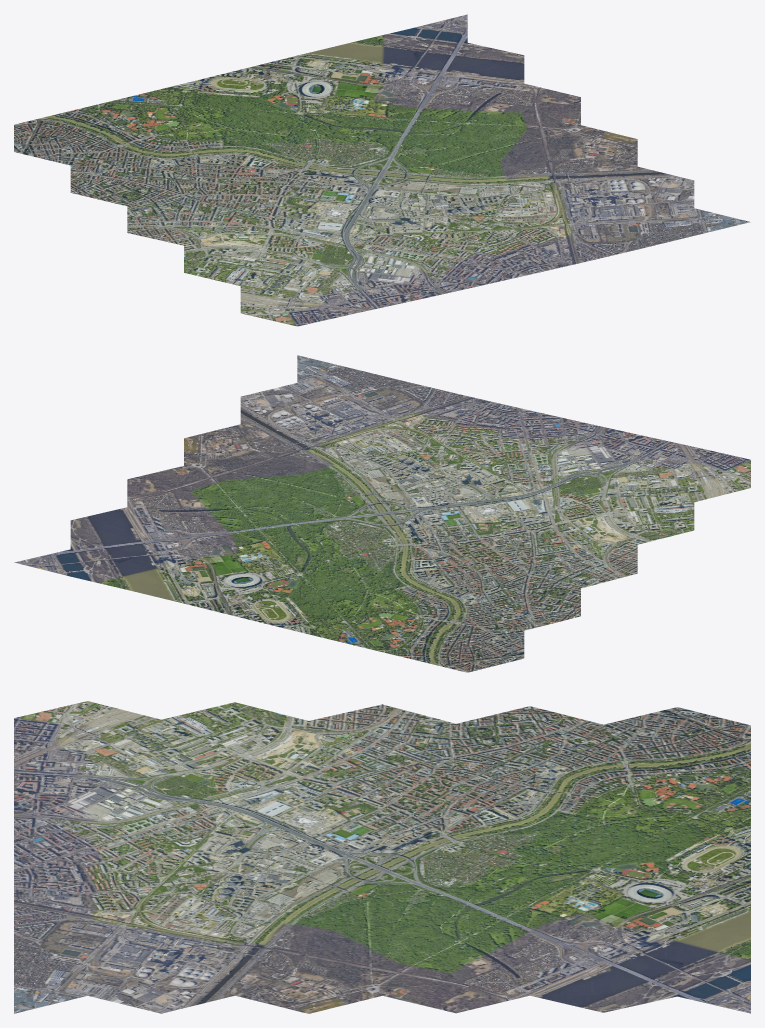
File: Venue_Terrain.fbx
3 renders of one model, top to bottom at view 1: azimuth 30°, elevation 25°; view 2: azimuth 150°, elevation 25°; view 3: azimuth 270°, elevation 25°, orthographic. The views are drawn at different scales.
Parts seen in each view (by area): view 1: TERRAIN0; view 2: TERRAIN0; view 3: TERRAIN0.
Part boxes in pixels (bbox=[...]): TERRAIN0: bbox=[14, 14, 750, 326]; TERRAIN0: bbox=[14, 355, 750, 672]; TERRAIN0: bbox=[14, 701, 750, 1013].
Bounding box in the file's own units: 4250 × 56.01 × 4330.
